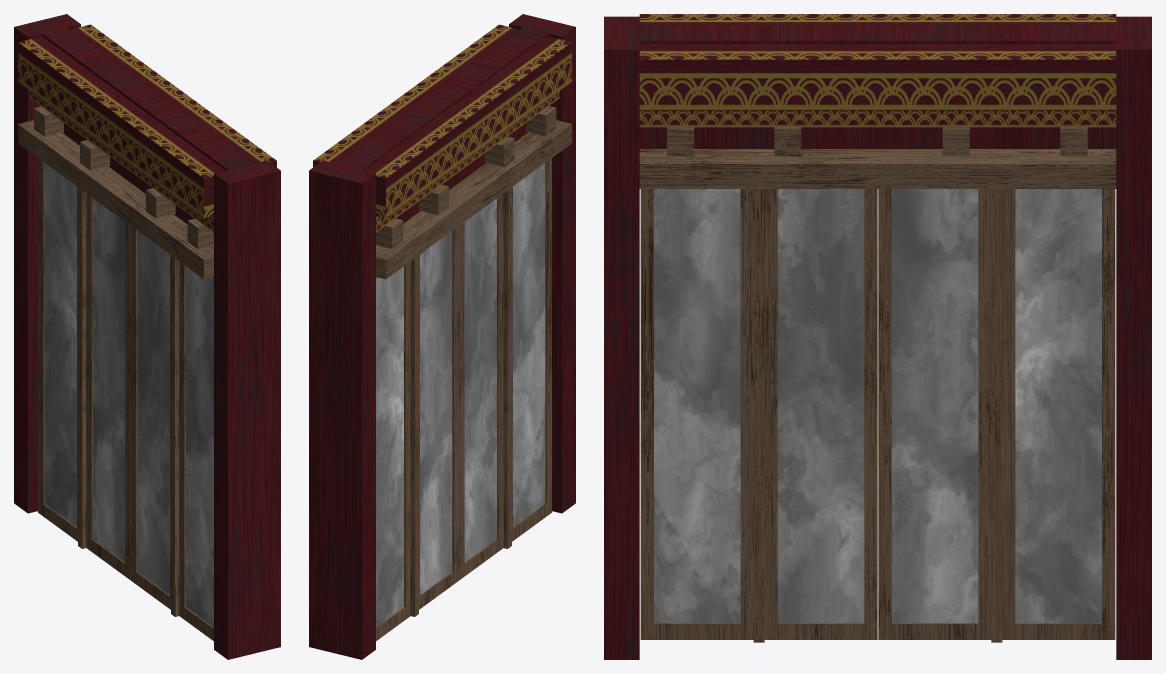
File: SM_modules_02.fbx
3 renders of one model, left to right at view 1: azimuth 30°, elevation 25°; view 2: azimuth 150°, elevation 25°; view 3: azimuth 270°, elevation 25°, orthographic. The views are drawn at different scales.
Parts seen in each view (by area): view 1: SM_modules_02; view 2: SM_modules_02; view 3: SM_modules_02.
Boxes of the visible parts, <box> form: SM_modules_02: <box>14,14,280,659</box>; SM_modules_02: <box>309,14,575,659</box>; SM_modules_02: <box>604,14,1151,659</box>.
Size of the model in its own units: 59.02 by 300 by 370.
4 materials, 4 textured.
